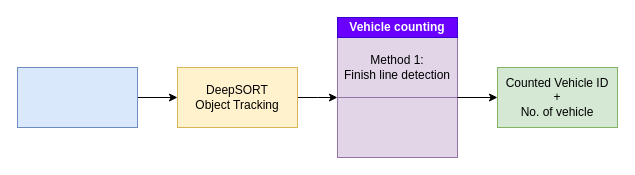
Image size: 635x175. Some labels were removed from this diagram. Here are the shapes that lost their labels. From the top down, the centre of each, then its label:
At [77,97]: "YoloV4 Object Detection Model".
At [397,127]: "Method 2: Travel vector filtering".
